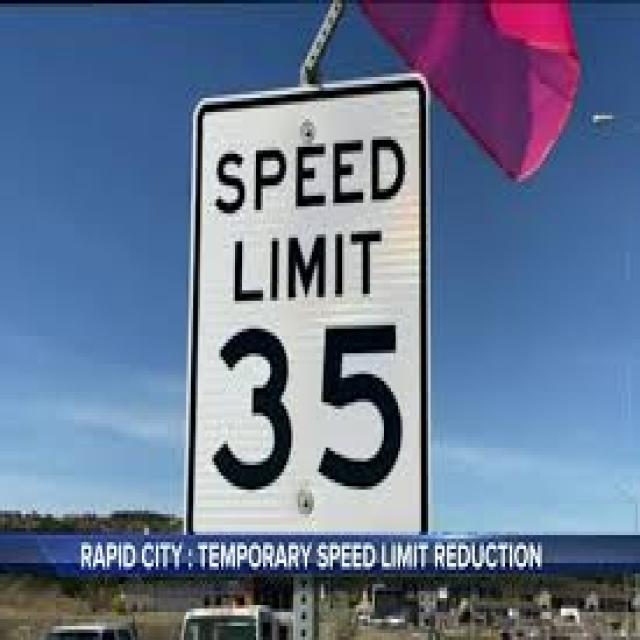speedLimit35: (170, 90, 461, 548)
